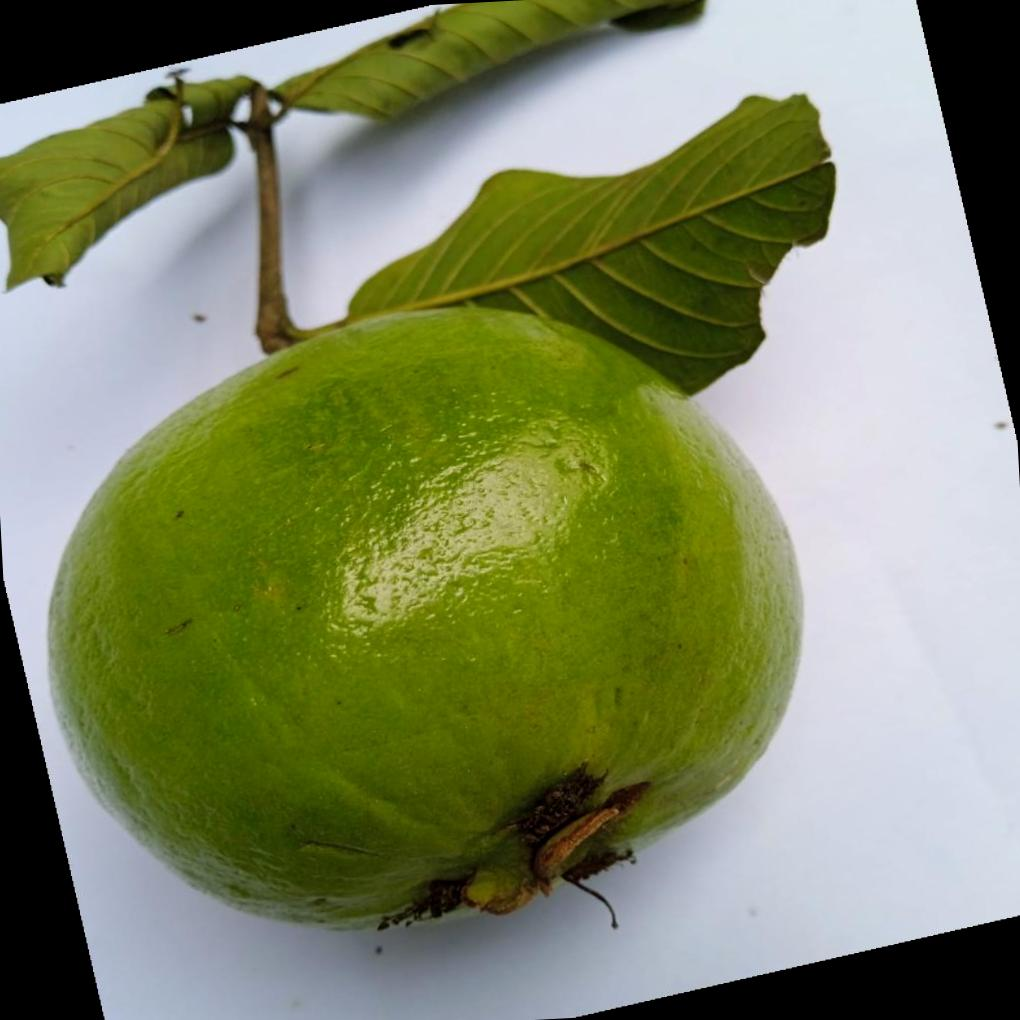FreshGuava: (47, 88, 841, 933)
